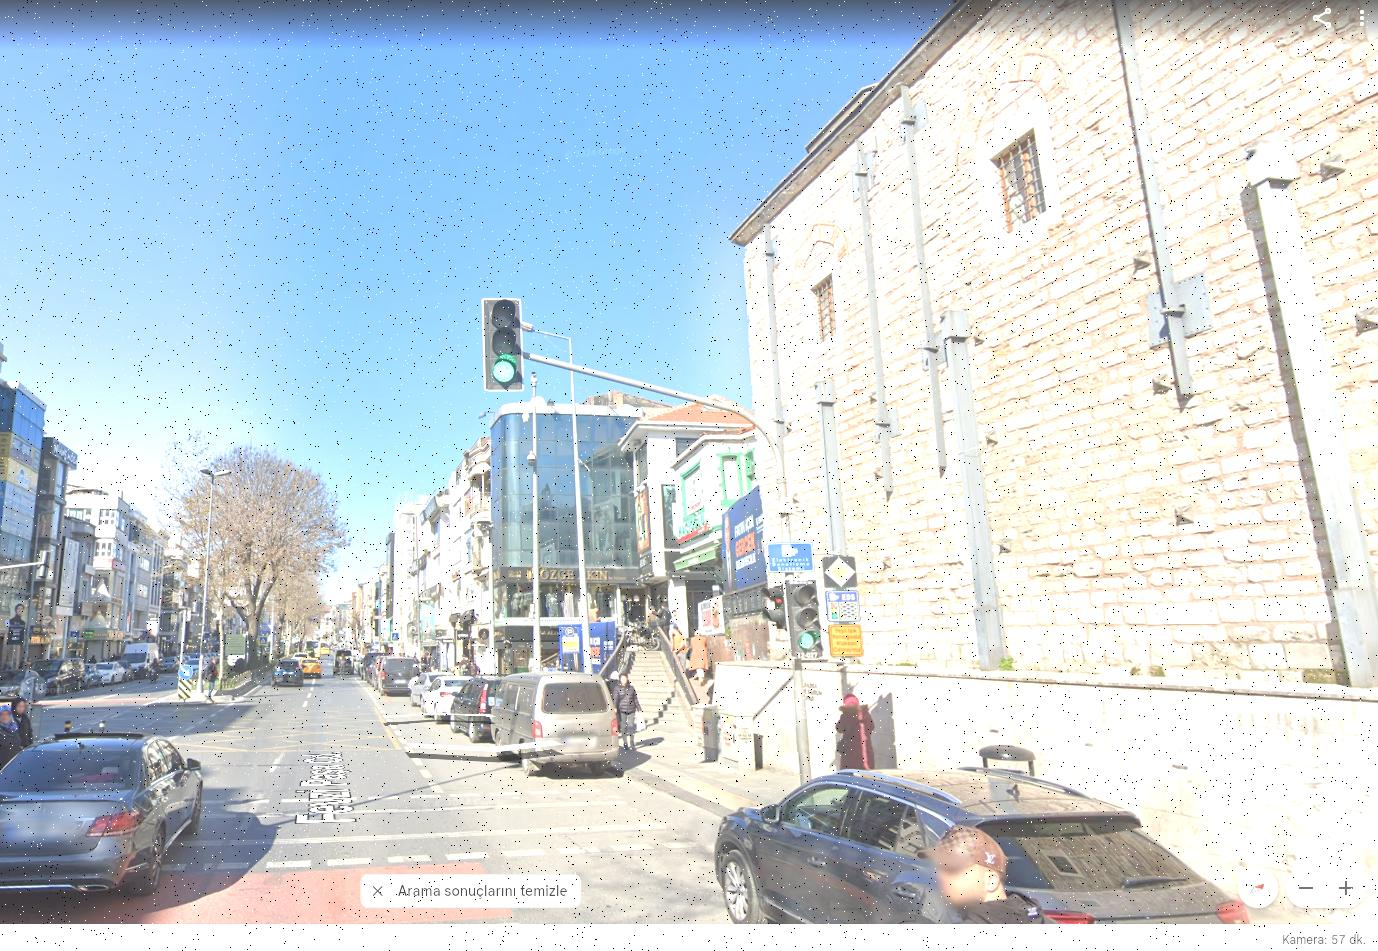greenlight: (488, 296, 520, 388), (785, 578, 819, 659)
